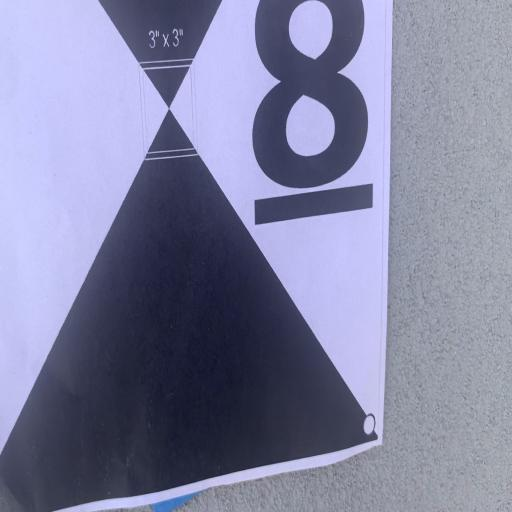target8: (0, 1, 389, 512)
